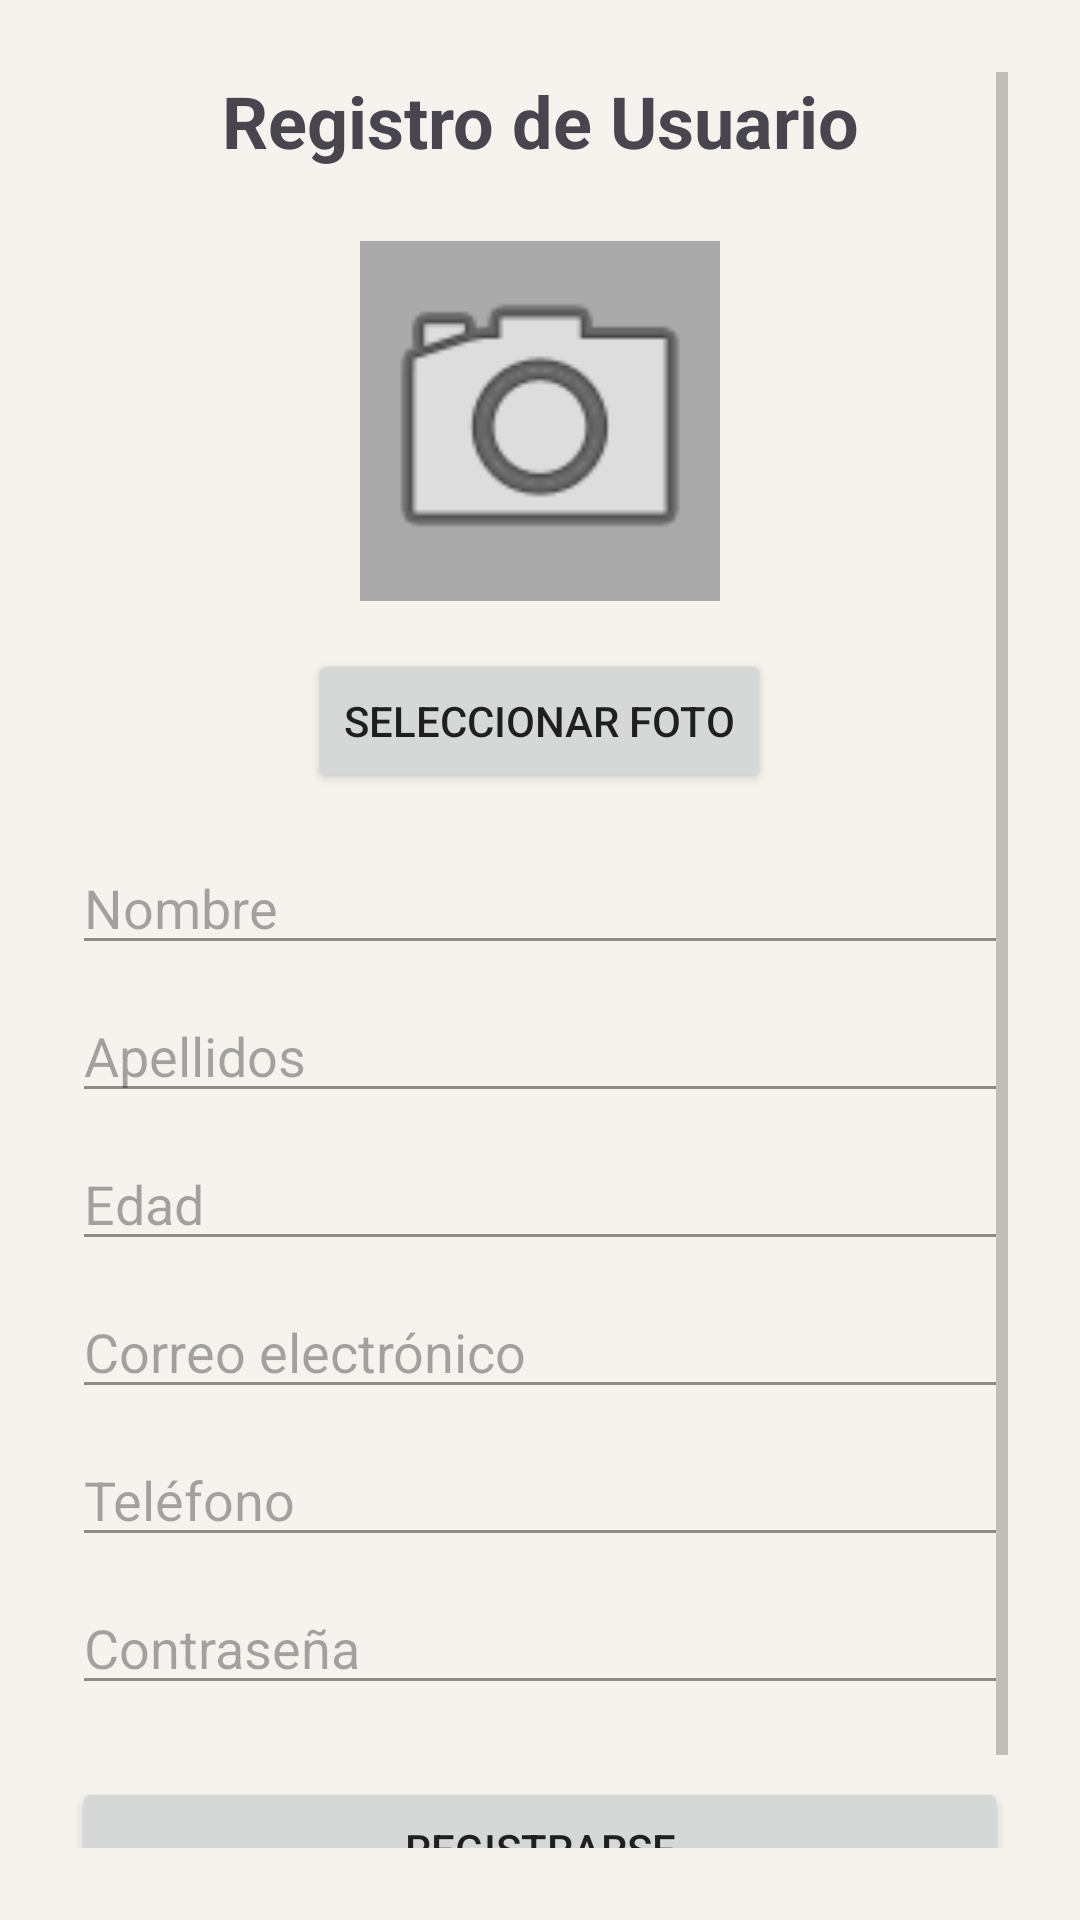

Icons on this 1080 x 1920 Android screen, each with the point to tap as (x=x, y=y):
camera: (x=540, y=421)
